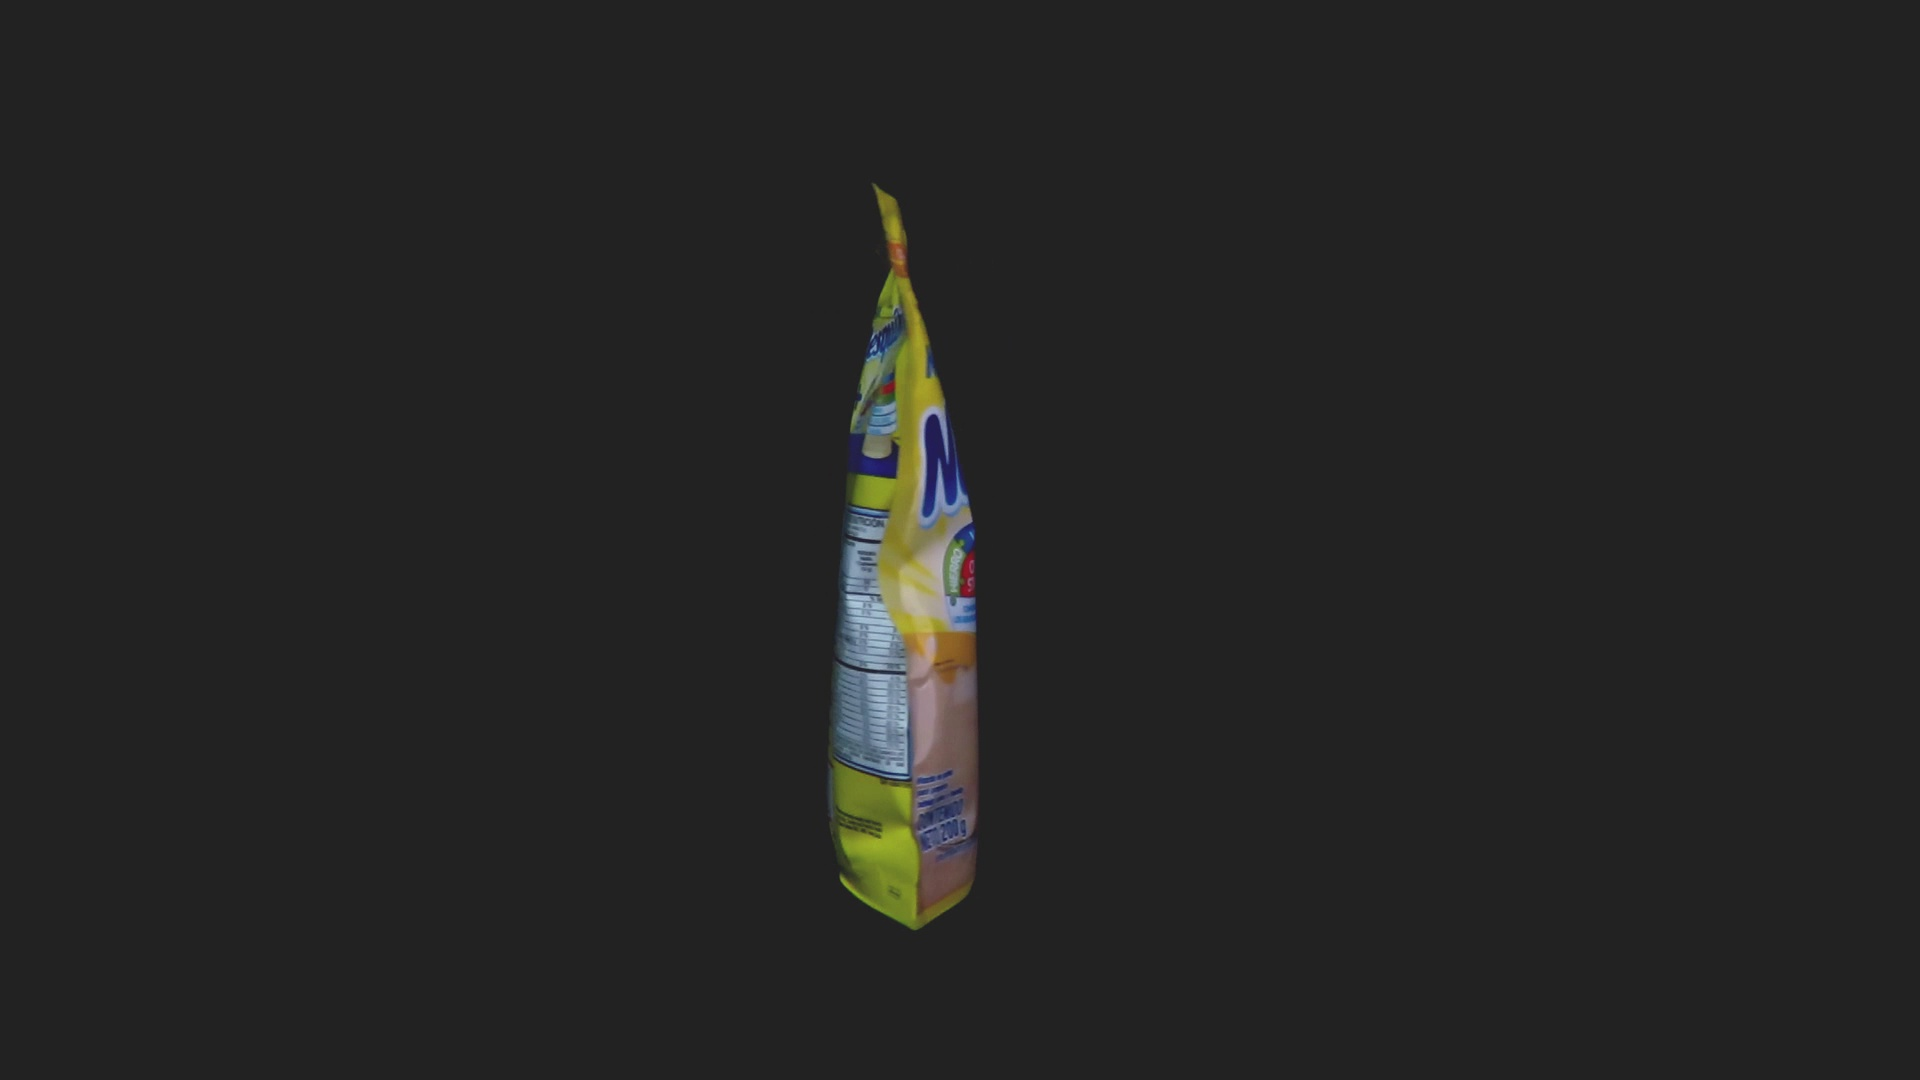COL0170306DYP20000: (823, 178, 985, 938)
